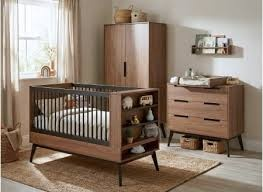crib: (30, 83, 158, 185)
